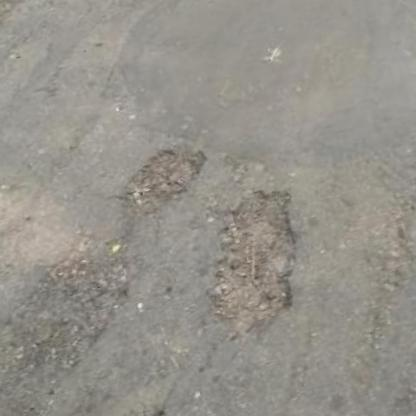pothole: (179, 177, 324, 347), (0, 248, 130, 363), (106, 136, 222, 228)
